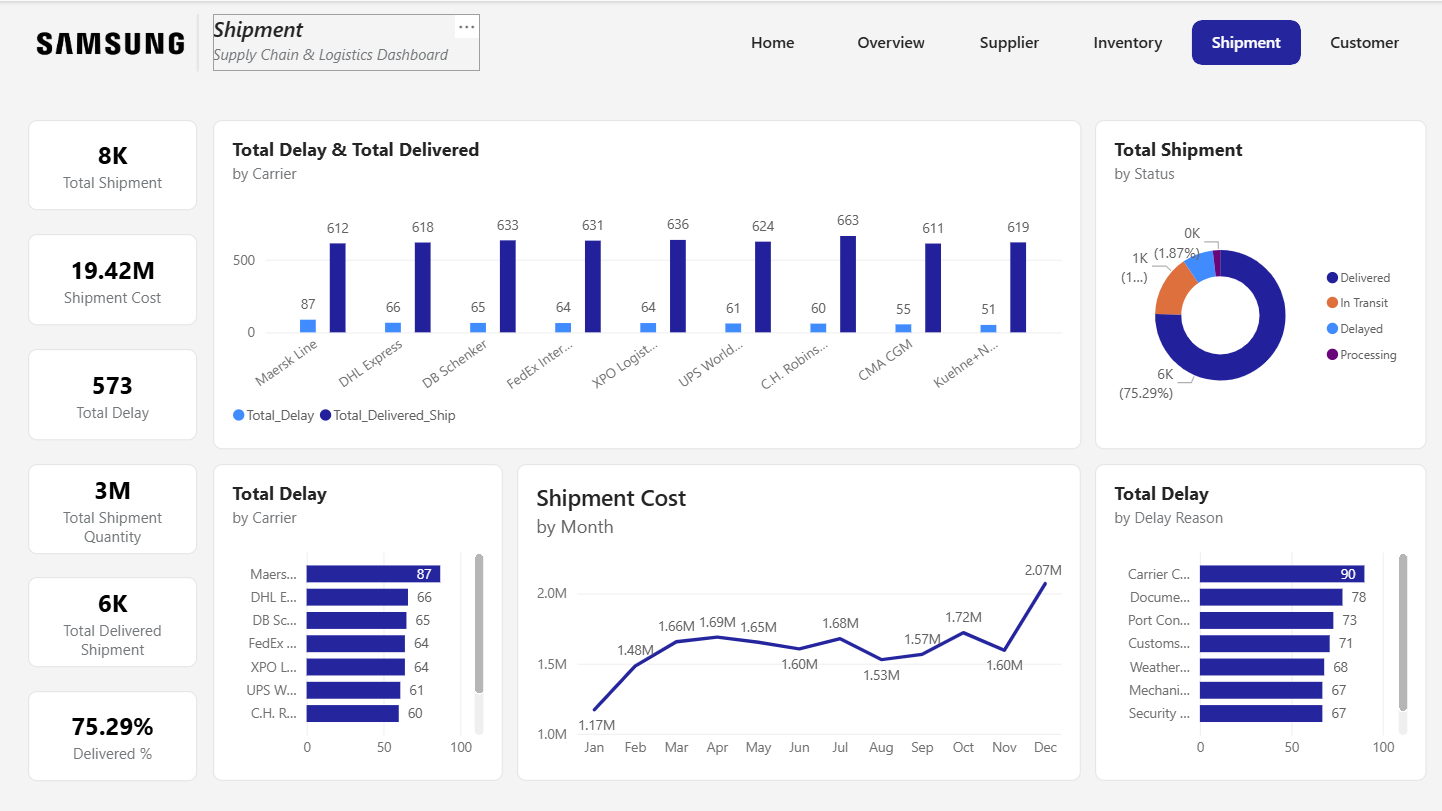

The dashboard page shown, as its layout file describes it:
{"tool":"powerbi","page":{"name":"Shipment","canvas":[1280,720],"ordinal":4},"visuals":[{"type":"shape","title":"Shipment","box":[188.5,11.1,236.9,51.4],"z":0},{"type":"shape","box":[162.3,11.1,26.2,51.4],"z":1000},{"type":"image","box":[13.1,20.2,162.3,34.3],"z":2000},{"type":"cardVisual","fields":{"Data":["MeasuresTable.Total_Delay"]},"box":[25.2,308.4,150.2,80.6],"z":3000},{"type":"cardVisual","fields":{"Data":["MeasuresTable.Total_Shipment_Quantity"]},"box":[25.2,410.2,150.2,79.6],"z":4000},{"type":"cardVisual","fields":{"Data":["MeasuresTable.Total_Delivered_Ship"]},"box":[25.2,511,150.2,79.6],"z":5000},{"type":"cardVisual","fields":{"Data":["MeasuresTable.Delivered %"]},"box":[25.2,611.8,150.2,79.6],"z":6000},{"type":"cardVisual","fields":{"Data":["MeasuresTable.Total_Shipment"]},"box":[25.2,105.8,150.2,79.6],"z":7000},{"type":"cardVisual","fields":{"Data":["MeasuresTable.Shipment_cost"]},"box":[25.2,206.6,150.2,80.6],"z":8000},{"type":"clusteredBarChart","title":"Total Delay","fields":{"Y":["MeasuresTable.Total_Delay"],"Category":["fact_shipment.carrier"]},"box":[188.5,410.2,257,281.2],"z":9000},{"type":"clusteredColumnChart","title":"Total Delay & Total Delivered","fields":{"Y":["MeasuresTable.Total_Delay","MeasuresTable.Total_Delivered_Ship"],"Category":["fact_shipment.carrier"]},"box":[188.5,105.8,770,292.3],"z":10000},{"type":"lineChart","title":"Shipment Cost","fields":{"Y":["MeasuresTable.Shipment_cost"],"Category":["dim_date.Month_Short"]},"box":[458.6,410.2,499.9,281.2],"z":11000},{"type":"clusteredBarChart","title":"Total Delay","fields":{"Category":["fact_shipment.delay_reason"],"Y":["MeasuresTable.Total_Delay"]},"box":[970.6,410.2,294.3,281.2],"z":12000},{"type":"donutChart","title":"Total Shipment","fields":{"Category":["fact_shipment.status"],"Y":["MeasuresTable.Total_Shipment"]},"box":[970.6,105.8,294.3,292.3],"z":13000},{"type":"pageNavigator","box":[637,17.1,622.9,40.3],"z":14000}]}

Visuals, with their boxes in screenshot pixels (x1, y1, x2, y2), scaled from the page's 1280x720 canvas onto the 1442x811 screenshot:
"Shipment" shape: region(212, 13, 479, 70)
shape: region(183, 13, 212, 70)
image: region(15, 23, 198, 61)
cardVisual - MeasuresTable.Total_Delay: region(28, 347, 198, 438)
cardVisual - MeasuresTable.Total_Shipment_Quantity: region(28, 462, 198, 552)
cardVisual - MeasuresTable.Total_Delivered_Ship: region(28, 576, 198, 665)
cardVisual - MeasuresTable.Delivered %: region(28, 689, 198, 779)
cardVisual - MeasuresTable.Total_Shipment: region(28, 119, 198, 209)
cardVisual - MeasuresTable.Shipment_cost: region(28, 233, 198, 323)
"Total Delay" clusteredBarChart: region(212, 462, 502, 779)
"Total Delay & Total Delivered" clusteredColumnChart: region(212, 119, 1080, 448)
"Shipment Cost" lineChart: region(517, 462, 1080, 779)
"Total Delay" clusteredBarChart: region(1093, 462, 1425, 779)
"Total Shipment" donutChart: region(1093, 119, 1425, 448)
pageNavigator: region(718, 19, 1419, 65)
